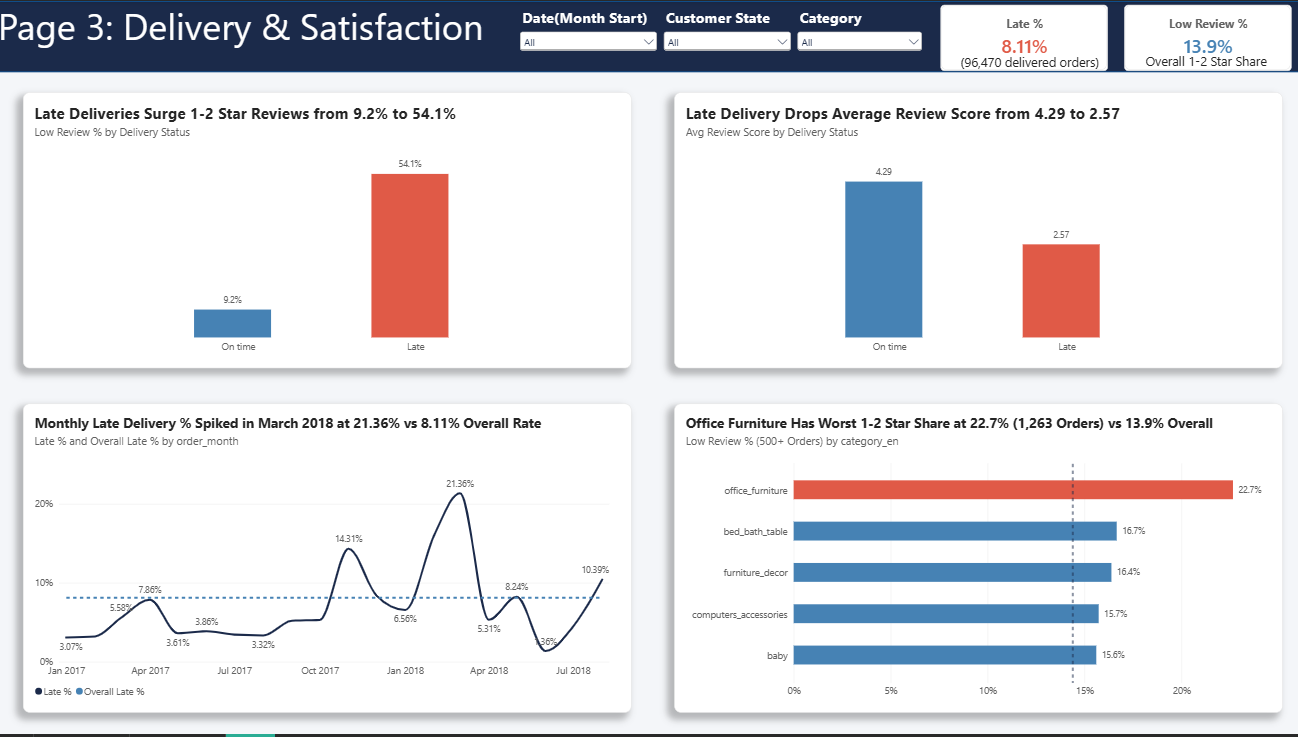

The dashboard page shown, as its layout file describes it:
{"tool":"powerbi","page":{"name":"Page 3","canvas":[1920,1080],"ordinal":2},"visuals":[{"type":"shape","box":[0,0,1919.6,104.9],"z":0},{"type":"textbox","box":[0,0,820.9,104.9],"z":1000},{"type":"slicer","fields":{"Values":["dim_customers.customer_state"]},"box":[975.5,9.2,196.9,66.3],"z":2000},{"type":"slicer","fields":{"Values":["dim_products.category_en"]},"box":[1172.4,9.2,193.3,66.3],"z":3000},{"type":"slicer","fields":{"Values":["dim_orders.order_month"]},"box":[763.8,9.2,211.7,66.3],"z":4000},{"type":"cardVisual","fields":{"Data":["fact_order_items.Late %"]},"box":[1387.7,5.5,246.6,97.5],"z":5000},{"type":"cardVisual","fields":{"Data":["order_reviews_summary.Low Review %"]},"box":[1658.3,5.5,246.6,97.5],"z":6000},{"type":"textbox","box":[1689.6,75.5,185.9,35],"z":7000},{"type":"textbox","box":[1417.2,77.3,217.2,31.3],"z":8000},{"type":"clusteredColumnChart","title":"Late Deliveries Surge 1-2 Star Reviews from 9.2% to 54.1%","fields":{"Category":["dim_orders.Delivery Status"],"Y":["order_reviews_summary.Low Review %"]},"box":[36.3,134.7,895.9,406.2],"z":9000},{"type":"clusteredColumnChart","title":"Late Delivery Drops Average Review Score from 4.29 to 2.57","fields":{"Category":["dim_orders.Delivery Status"],"Y":["order_reviews_summary.Avg Review Score"]},"box":[996.3,134.7,895.9,406.2],"z":10000},{"type":"lineChart","title":"Monthly Late Delivery % Spiked in March 2018 at 21.36% vs 8.11% Overall Rate","fields":{"Category":["dim_orders.order_month"],"Y":["fact_order_items.Late %","dim_orders.Overall Late %"]},"box":[36.3,592.2,895.9,455.4],"z":11000},{"type":"clusteredBarChart","title":"Office Furniture Has Worst 1-2 Star Share at 22.7% (1,263 Orders) vs 13.9% Overall","fields":{"Category":["dim_products.category_en"],"Y":["order_reviews_summary.Low Review % (500+ Orders)"]},"box":[996.3,592.2,895.9,455.4],"z":12000}]}

Visuals, with their boxes in screenshot pixels (x1, y1, x2, y2), scaled from the page's 1920x1080 canvas onto the 1298x737 screenshot:
shape: Rect(0, 0, 1297, 72)
textbox: Rect(0, 0, 555, 72)
slicer - dim_customers.customer_state: Rect(659, 6, 793, 52)
slicer - dim_products.category_en: Rect(793, 6, 923, 52)
slicer - dim_orders.order_month: Rect(516, 6, 659, 52)
cardVisual - fact_order_items.Late %: Rect(938, 4, 1105, 70)
cardVisual - order_reviews_summary.Low Review %: Rect(1121, 4, 1288, 70)
textbox: Rect(1142, 52, 1268, 75)
textbox: Rect(958, 53, 1105, 74)
"Late Deliveries Surge 1-2 Star Reviews from 9.2% to 54.1%" clusteredColumnChart: Rect(25, 92, 630, 369)
"Late Delivery Drops Average Review Score from 4.29 to 2.57" clusteredColumnChart: Rect(674, 92, 1279, 369)
"Monthly Late Delivery % Spiked in March 2018 at 21.36% vs 8.11% Overall Rate" lineChart: Rect(25, 404, 630, 715)
"Office Furniture Has Worst 1-2 Star Share at 22.7% (1,263 Orders) vs 13.9% Overall" clusteredBarChart: Rect(674, 404, 1279, 715)
